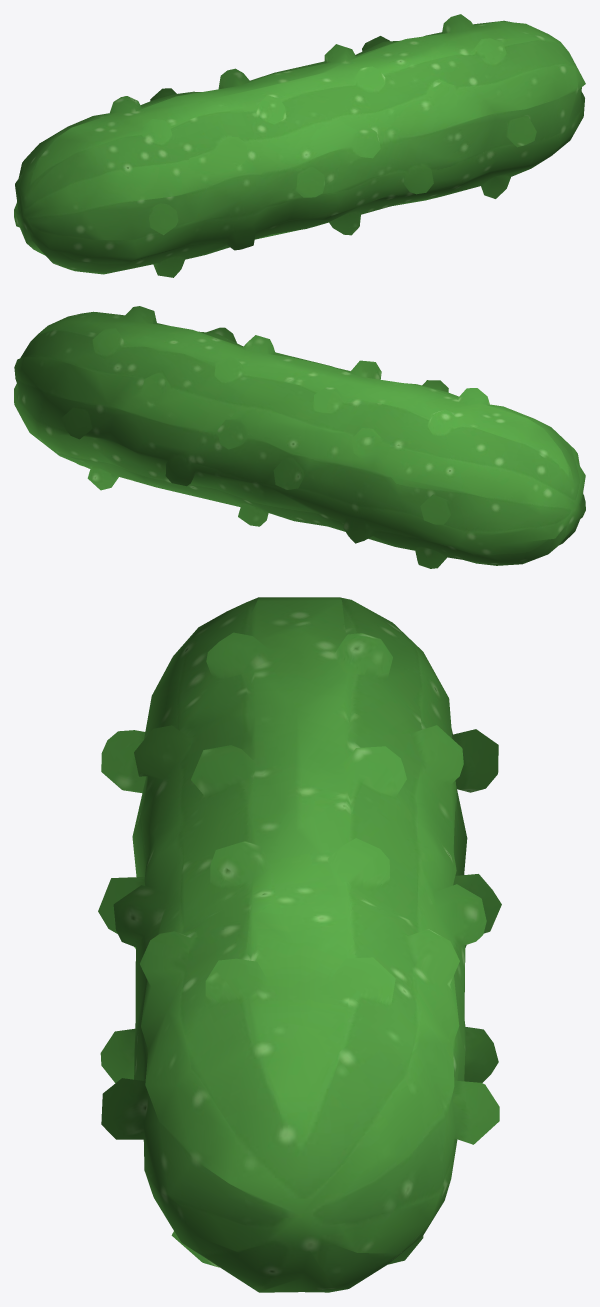
File: cuke.glb
The picture shows the model from 3 angles, top to bottom: view 1: azimuth 30°, elevation 25°; view 2: azimuth 150°, elevation 25°; view 3: azimuth 270°, elevation 25°; orthographic projection. The views are drawn at different scales.
Parts seen in each view (by area): view 1: tripo_node_92e10181-7f63-4977-b096-43f7dbb1e0a4; view 2: tripo_node_92e10181-7f63-4977-b096-43f7dbb1e0a4; view 3: tripo_node_92e10181-7f63-4977-b096-43f7dbb1e0a4.
Part boxes in pixels (x1,y1,x2,y2): tripo_node_92e10181-7f63-4977-b096-43f7dbb1e0a4: (14,14,585,277); tripo_node_92e10181-7f63-4977-b096-43f7dbb1e0a4: (14,306,585,568); tripo_node_92e10181-7f63-4977-b096-43f7dbb1e0a4: (98,597,501,1292).
Bounding box in the file's own units: 0.9786 × 0.2608 × 0.3103.
1 material, 1 textured.
